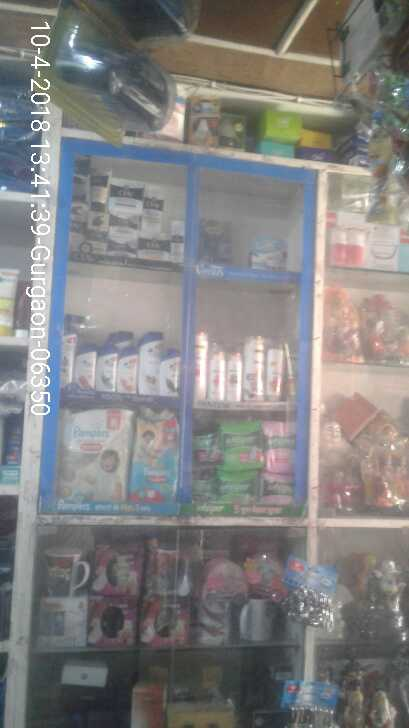venus: (197, 217, 233, 261), (246, 236, 286, 269)
